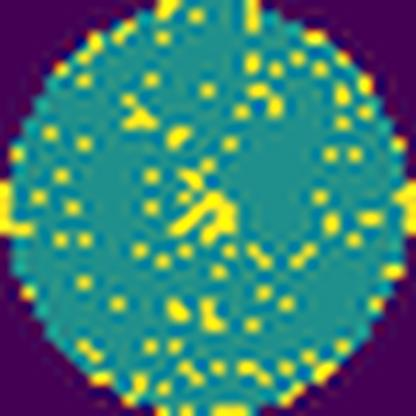Center: (161, 184, 245, 246)
